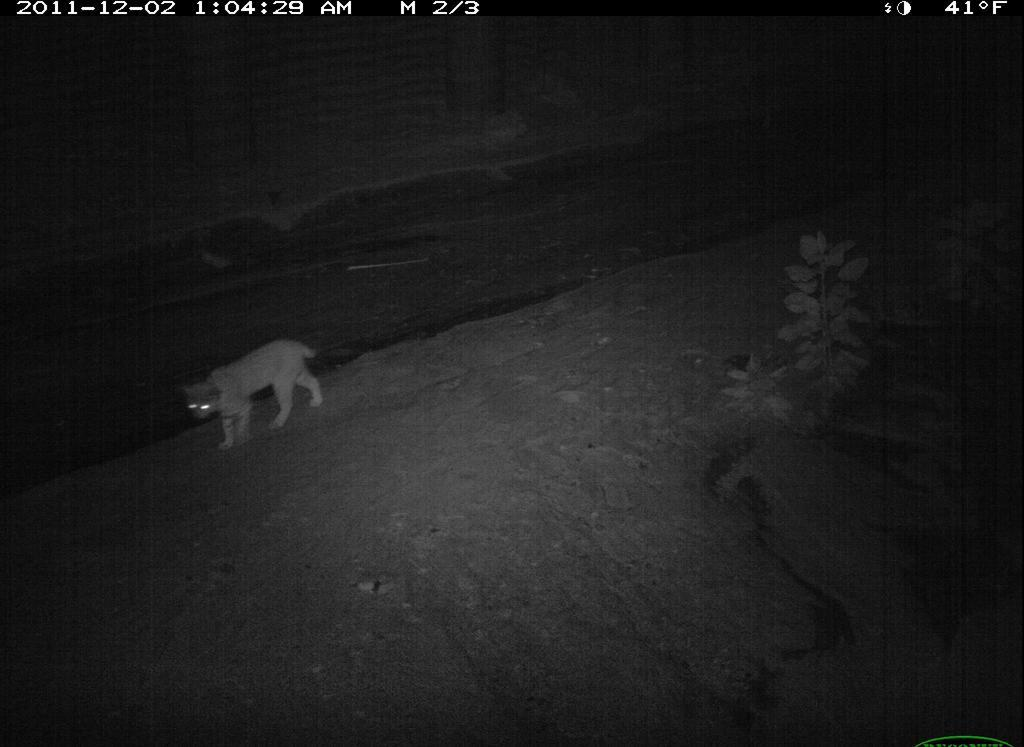bobcat: (172, 331, 342, 457)
